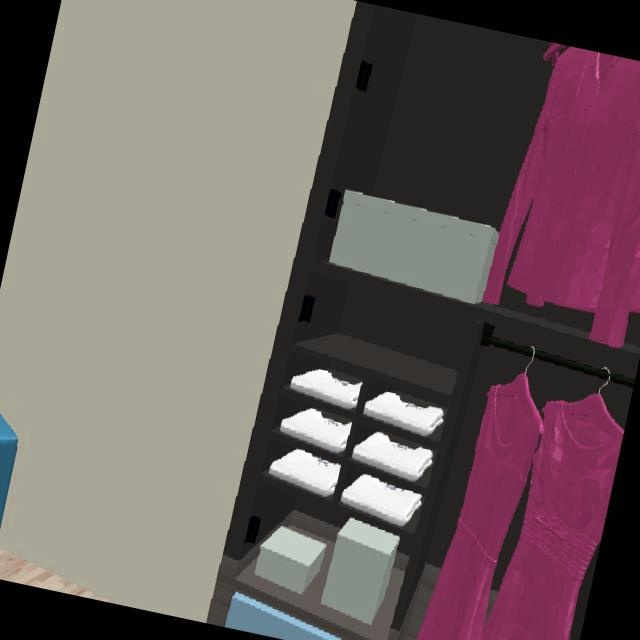wardrobe: (207, 1, 640, 640)
